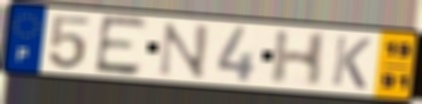4: (214, 24, 259, 85)
5: (46, 13, 93, 70)
E: (92, 13, 151, 78)
H: (268, 29, 331, 88)
K: (328, 33, 374, 92)
N: (155, 21, 212, 81)
